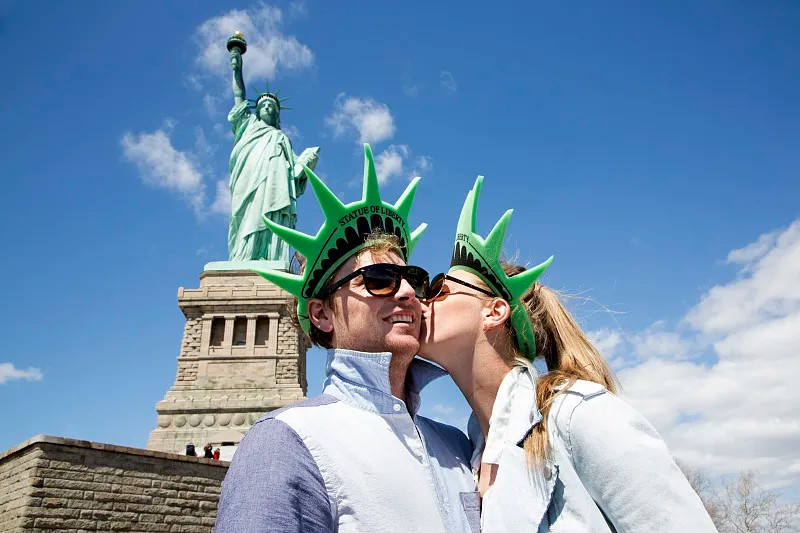SL: (146, 29, 319, 462)
